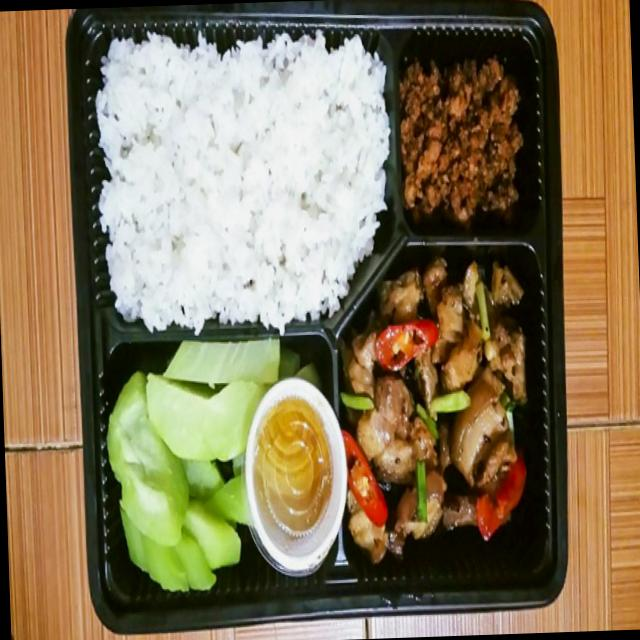com: (95, 32, 389, 332)
kho tieu: (342, 257, 526, 562)
nuoc mam: (243, 377, 347, 573)
ot: (342, 431, 387, 527), (474, 457, 525, 540), (373, 320, 438, 369)
rau: (106, 338, 318, 591)
